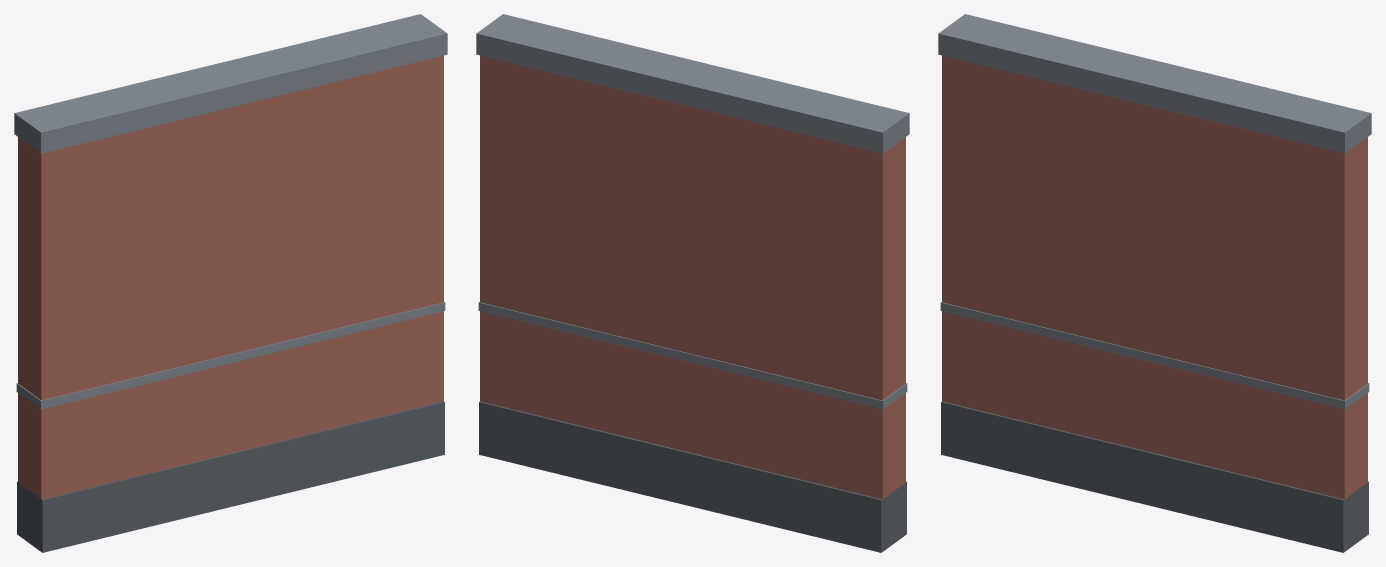
The model's file is arkham_wall_bricksolid.glb.
The picture shows the model from 3 angles, left to right: view 1: azimuth 30°, elevation 25°; view 2: azimuth 150°, elevation 25°; view 3: azimuth 330°, elevation 25°; orthographic projection.
Parts seen in each view (by area): view 1: Arkham_Wall_BrickSolid; view 2: Arkham_Wall_BrickSolid; view 3: Arkham_Wall_BrickSolid.
Boxes of the visible parts, x1,y1,x2,y2 form: Arkham_Wall_BrickSolid: [14, 14, 447, 552]; Arkham_Wall_BrickSolid: [476, 14, 909, 552]; Arkham_Wall_BrickSolid: [938, 14, 1371, 552].
Bounding box in the file's own units: 4.04 × 4 × 0.46.
